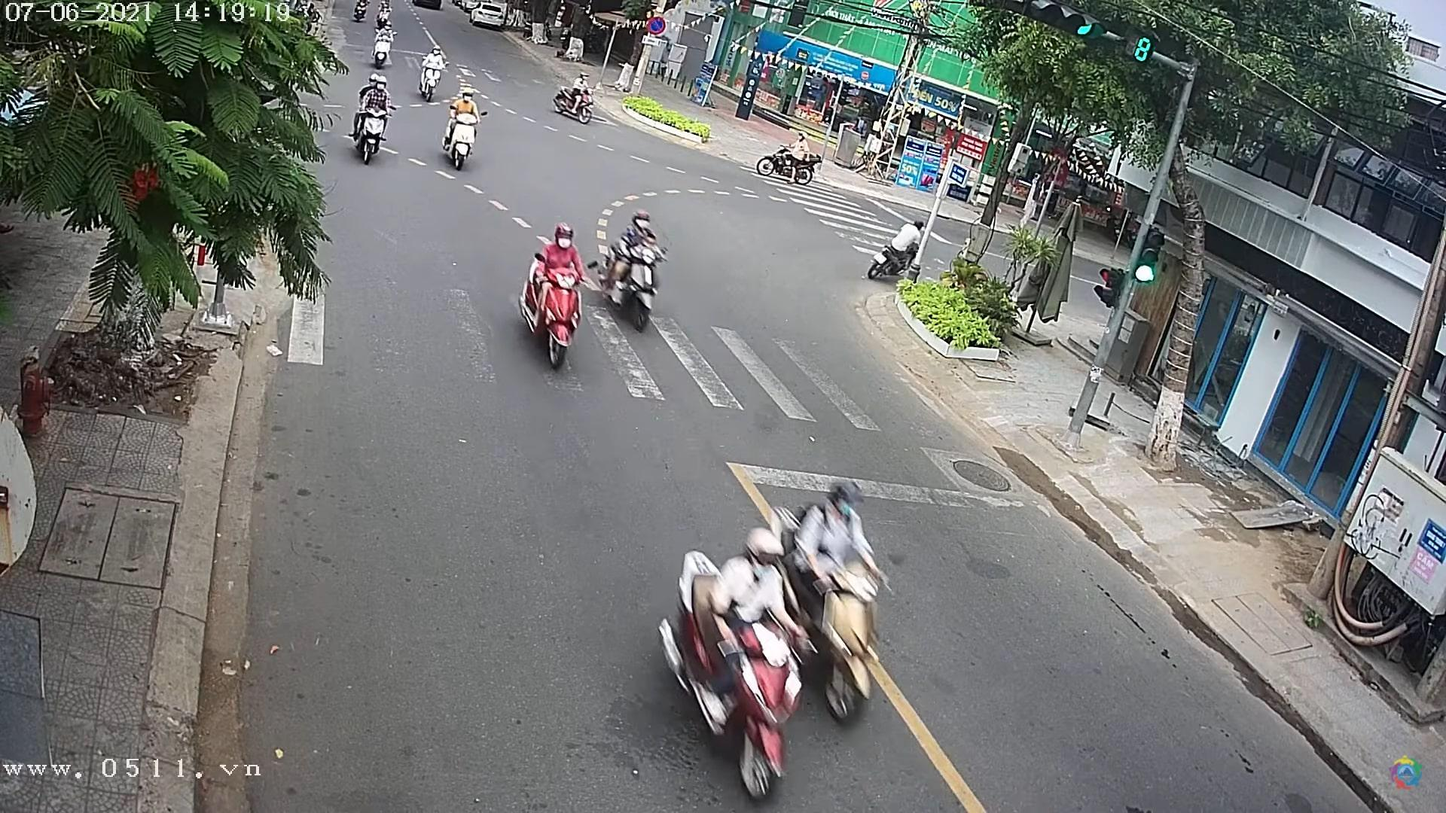motorbike: (657, 535, 813, 803), (524, 247, 596, 371), (599, 230, 667, 335), (441, 105, 482, 170), (351, 110, 387, 162), (415, 55, 447, 103)
